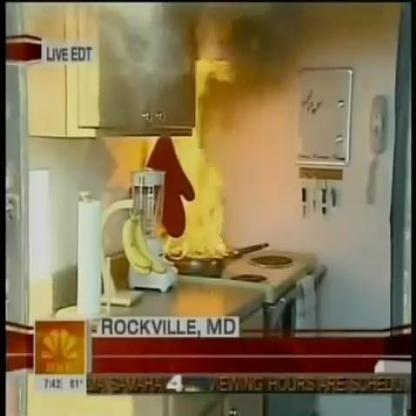fire: (161, 128, 238, 264)
